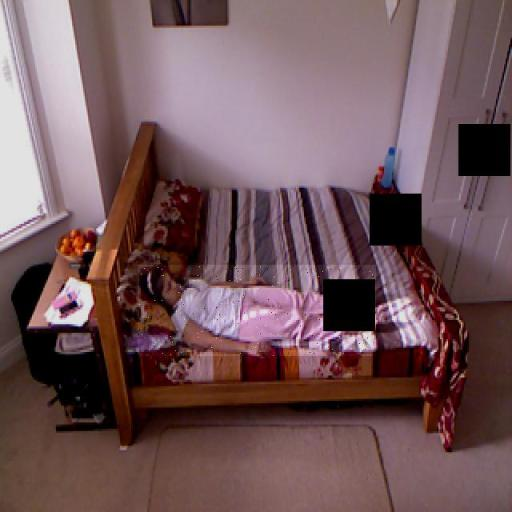Fall: (138, 265, 376, 356)
